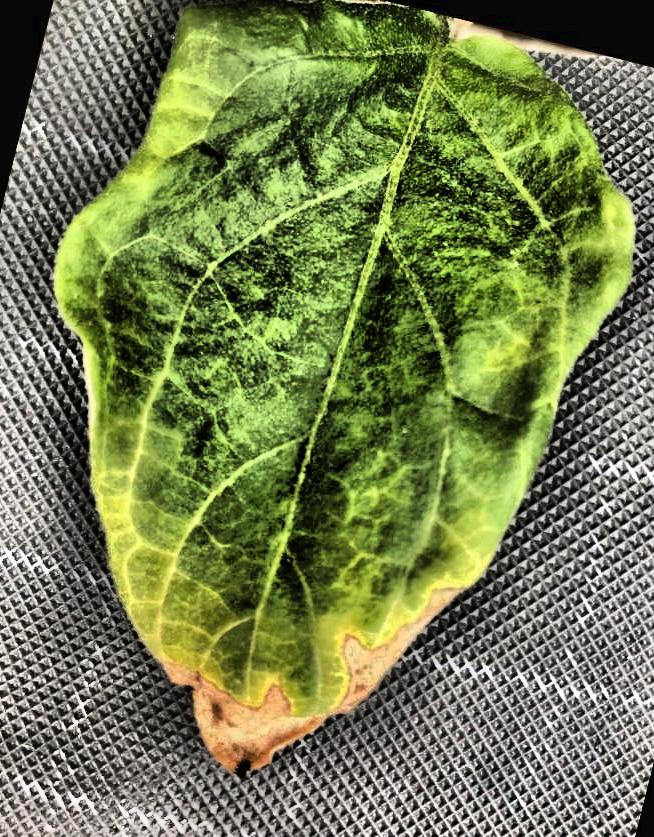Critical Stress: (1, 0, 654, 837)
